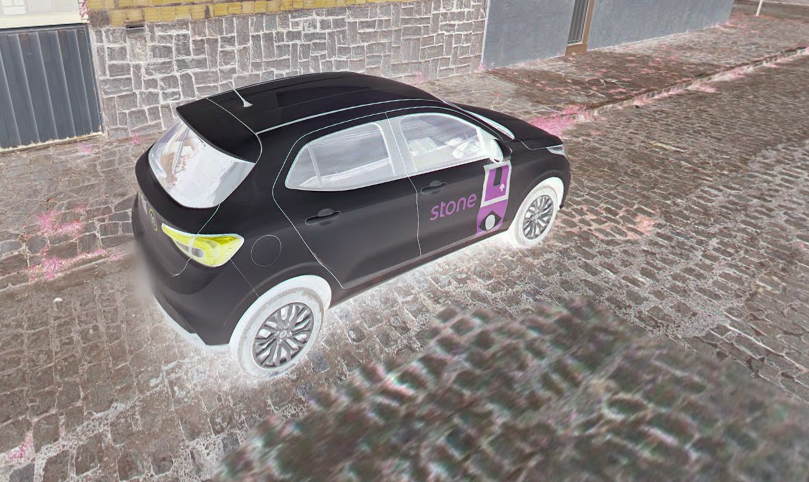car: (131, 70, 573, 380)
